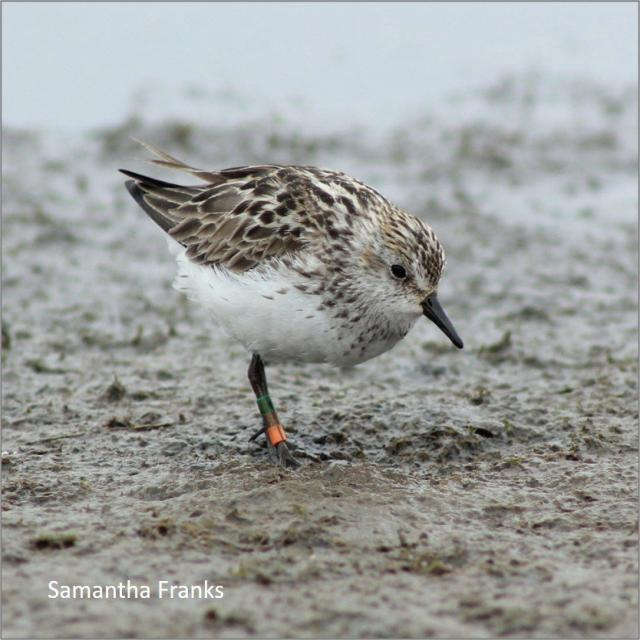sandpiper: (120, 143, 463, 466)
